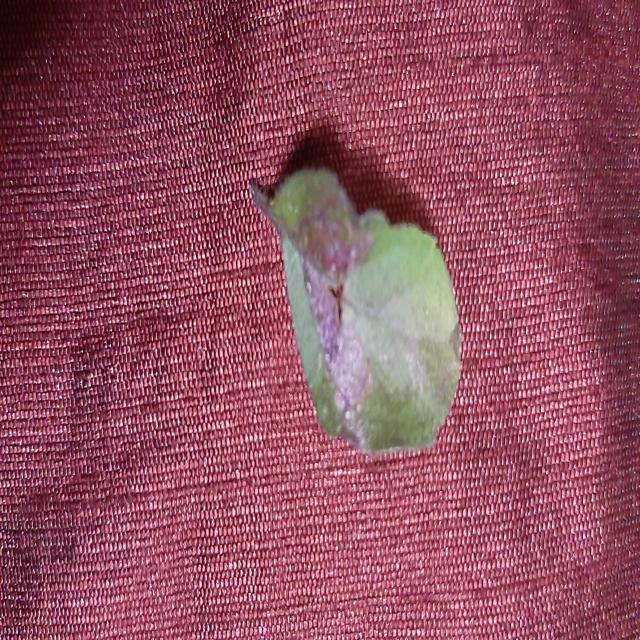defectedtulsi: (276, 168, 374, 447)
tulsi: (251, 168, 461, 453)
